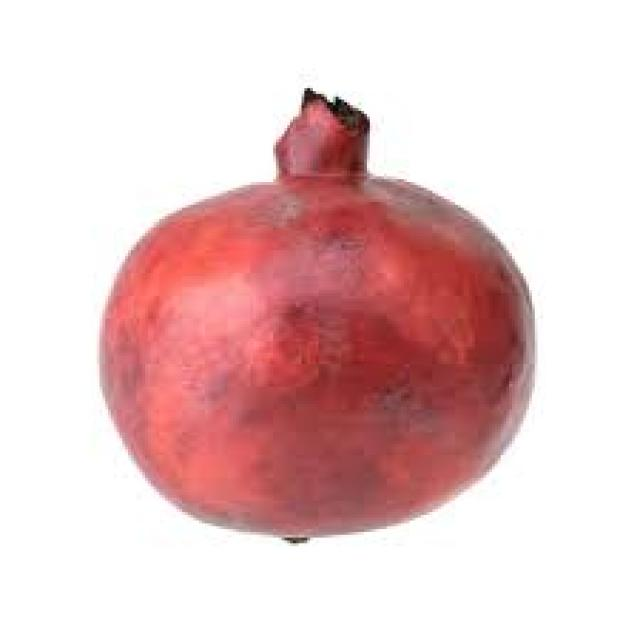overripe: (90, 94, 540, 548)
